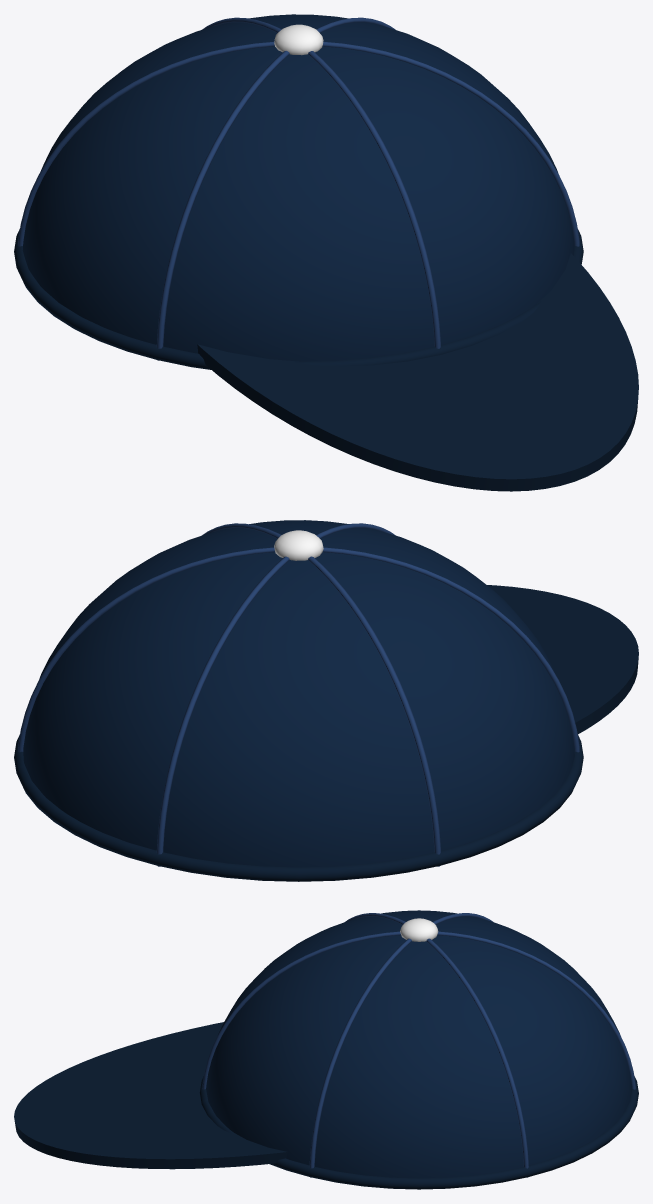
File: cap.glb
The picture shows the model from 3 angles, top to bottom: view 1: azimuth 30°, elevation 25°; view 2: azimuth 150°, elevation 25°; view 3: azimuth 270°, elevation 25°; orthographic projection. The views are drawn at different scales.
Parts seen in each view (by area): view 1: Crown, Brim, Band, Seam3, Seam1, Seam2, Button; view 2: Crown, Brim, Band, Seam1, Seam3, Seam2, Button; view 3: Crown, Brim, Band, Seam2, Seam3, Seam1, Button.
Boxes of the visible parts, left/top/right/bottom form: Crown: left=22, top=14, right=574, bottom=361; Brim: left=197, top=253, right=638, bottom=491; Band: left=14, top=229, right=583, bottom=369; Seam3: left=18, top=41, right=579, bottom=246; Seam1: left=156, top=17, right=395, bottom=360; Seam2: left=202, top=17, right=440, bottom=348; Button: left=274, top=24, right=323, bottom=55; Crown: left=23, top=520, right=574, bottom=867; Brim: left=487, top=585, right=638, bottom=734; Band: left=14, top=734, right=583, bottom=881; Seam1: left=18, top=547, right=579, bottom=752; Seam3: left=202, top=523, right=440, bottom=866; Seam2: left=156, top=523, right=395, bottom=866; Button: left=274, top=530, right=323, bottom=560; Crown: left=206, top=910, right=632, bottom=1178; Brim: left=14, top=1022, right=287, bottom=1169; Band: left=199, top=1076, right=638, bottom=1189; Seam2: left=202, top=931, right=635, bottom=1089; Seam3: left=309, top=913, right=492, bottom=1177; Seam1: left=345, top=913, right=528, bottom=1177; Button: left=400, top=918, right=438, bottom=941.
Size of the model in its own units: 1.03 by 0.5301 by 1.46.
